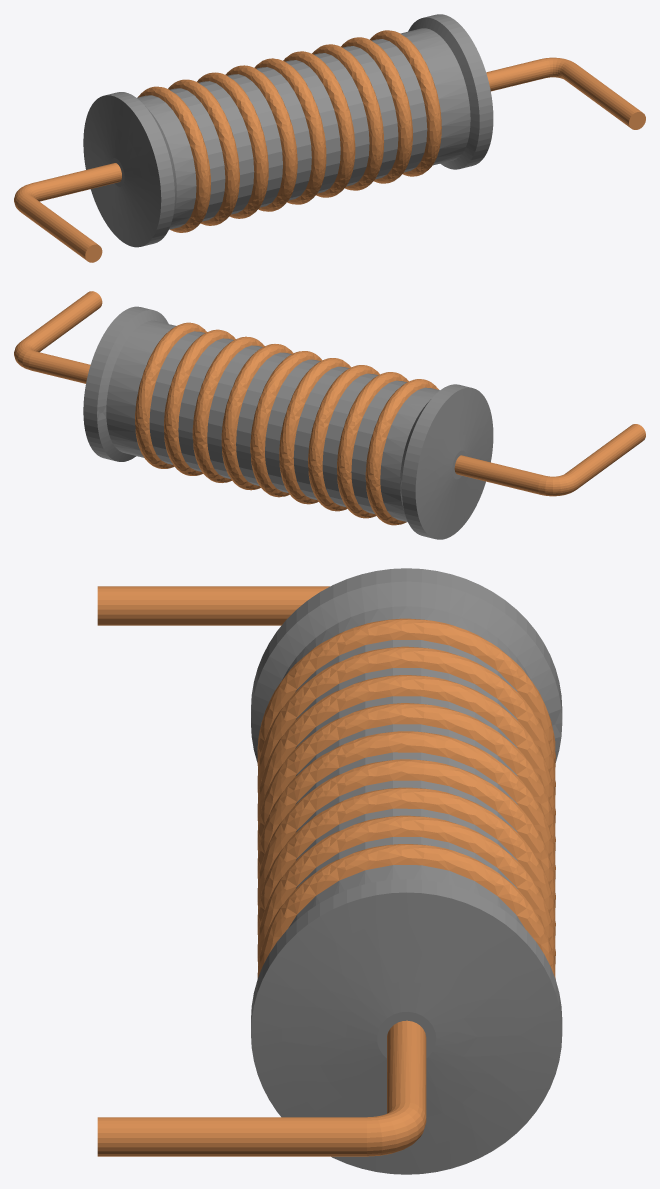
Rendered from L_Axial_L16.0mm_D6.3mm_P25.40mm_Horizontal_Fastron_VHBCC.glb.
The picture shows the model from 3 angles, top to bottom: view 1: azimuth 30°, elevation 25°; view 2: azimuth 150°, elevation 25°; view 3: azimuth 270°, elevation 25°; orthographic projection. The views are drawn at different scales.
Parts seen in each view (by area): view 1: Shape_IndexedFaceSet.029, Shape_IndexedFaceSet.005, Shape_IndexedFaceSet.026, Shape_IndexedFaceSet.017, Shape_IndexedFaceSet.015, Shape_IndexedFaceSet.019, Shape_IndexedFaceSet.025, Shape_IndexedFaceSet.023, Shape_IndexedFaceSet.013, Shape_IndexedFaceSet.011, Shape_IndexedFaceSet.021, Shape_IndexedFaceSet.007 (+16 smaller); view 2: Shape_IndexedFaceSet.029, Shape_IndexedFaceSet.005, Shape_IndexedFaceSet.026, Shape_IndexedFaceSet.025, Shape_IndexedFaceSet.015, Shape_IndexedFaceSet.007, Shape_IndexedFaceSet.013, Shape_IndexedFaceSet.019, Shape_IndexedFaceSet.023, Shape_IndexedFaceSet.017, Shape_IndexedFaceSet.011, Shape_IndexedFaceSet.021 (+17 smaller); view 3: Shape_IndexedFaceSet, Shape_IndexedFaceSet.008, Shape_IndexedFaceSet.027, Shape_IndexedFaceSet.033, Shape_IndexedFaceSet.017, Shape_IndexedFaceSet.019, Shape_IndexedFaceSet.021, Shape_IndexedFaceSet.015, Shape_IndexedFaceSet.013, Shape_IndexedFaceSet.025, Shape_IndexedFaceSet.011, Shape_IndexedFaceSet.023 (+16 smaller).
Part boxes in pixels (x1,y1,x2,y2): Shape_IndexedFaceSet.029: (83, 95, 161, 247); Shape_IndexedFaceSet.005: (400, 28, 470, 165); Shape_IndexedFaceSet.026: (137, 95, 196, 229); Shape_IndexedFaceSet.017: (254, 58, 326, 204); Shape_IndexedFaceSet.015: (283, 51, 355, 197); Shape_IndexedFaceSet.019: (225, 65, 297, 211); Shape_IndexedFaceSet.025: (137, 86, 210, 232); Shape_IndexedFaceSet.023: (168, 79, 239, 225); Shape_IndexedFaceSet.013: (312, 44, 384, 190); Shape_IndexedFaceSet.011: (341, 37, 412, 183); Shape_IndexedFaceSet.021: (197, 72, 268, 218); Shape_IndexedFaceSet.007: (370, 30, 441, 176); Shape_IndexedFaceSet.029: (415, 387, 493, 539); Shape_IndexedFaceSet.005: (106, 320, 175, 457); Shape_IndexedFaceSet.026: (380, 387, 439, 522); Shape_IndexedFaceSet.025: (365, 379, 438, 525); Shape_IndexedFaceSet.015: (221, 344, 293, 490); Shape_IndexedFaceSet.007: (135, 322, 206, 468); Shape_IndexedFaceSet.013: (192, 336, 264, 482); Shape_IndexedFaceSet.019: (279, 358, 350, 504); Shape_IndexedFaceSet.023: (337, 372, 408, 518); Shape_IndexedFaceSet.017: (250, 351, 322, 497); Shape_IndexedFaceSet.011: (164, 329, 235, 475); Shape_IndexedFaceSet.021: (308, 365, 379, 511); Shape_IndexedFaceSet: (251, 892, 562, 1174); Shape_IndexedFaceSet.008: (97, 1117, 366, 1156); Shape_IndexedFaceSet.027: (251, 581, 562, 762); Shape_IndexedFaceSet.033: (97, 586, 329, 625); Shape_IndexedFaceSet.017: (257, 731, 555, 881); Shape_IndexedFaceSet.019: (257, 703, 555, 852); Shape_IndexedFaceSet.021: (257, 675, 555, 824); Shape_IndexedFaceSet.015: (257, 759, 555, 909); Shape_IndexedFaceSet.013: (257, 787, 555, 937); Shape_IndexedFaceSet.025: (257, 618, 555, 768); Shape_IndexedFaceSet.011: (257, 815, 555, 965); Shape_IndexedFaceSet.023: (257, 646, 555, 796).
Bounding box in the file's own units: 10.31 × 2.48 × 3.7.
